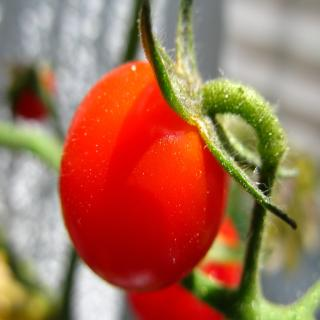tomato: (55, 0, 292, 297)
